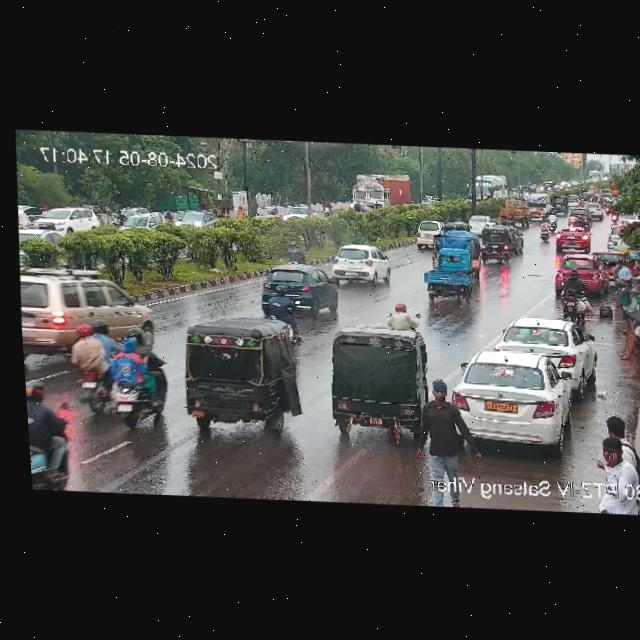bus: (462, 173, 510, 201)
car: (441, 349, 589, 450), (177, 322, 295, 427), (323, 330, 434, 437), (18, 272, 157, 353), (494, 317, 592, 377), (257, 265, 339, 314), (20, 205, 103, 237), (327, 245, 392, 283), (420, 261, 480, 297), (556, 256, 606, 289), (476, 229, 517, 263), (552, 226, 590, 252), (122, 210, 162, 230), (412, 220, 438, 250), (175, 210, 217, 226), (592, 245, 620, 264), (606, 222, 626, 248), (470, 212, 494, 229), (512, 226, 524, 259), (444, 220, 470, 234), (589, 202, 603, 220), (567, 195, 580, 207)
motorcycle: (81, 332, 167, 423), (66, 318, 123, 400), (557, 262, 593, 322), (265, 281, 296, 319), (380, 304, 420, 332), (536, 219, 555, 242), (565, 212, 586, 228), (602, 202, 617, 220), (579, 193, 606, 202), (548, 210, 558, 231), (111, 210, 123, 224), (323, 202, 333, 218), (163, 210, 173, 224), (268, 203, 279, 215)
person: (25, 370, 88, 491), (415, 378, 468, 465), (590, 417, 640, 491), (617, 275, 639, 326), (616, 315, 640, 359), (497, 198, 532, 223), (598, 413, 627, 438), (609, 260, 631, 285), (637, 389, 640, 515), (626, 254, 640, 278), (235, 203, 245, 221)
truck: (351, 174, 411, 215), (432, 230, 482, 272), (525, 192, 552, 219)
